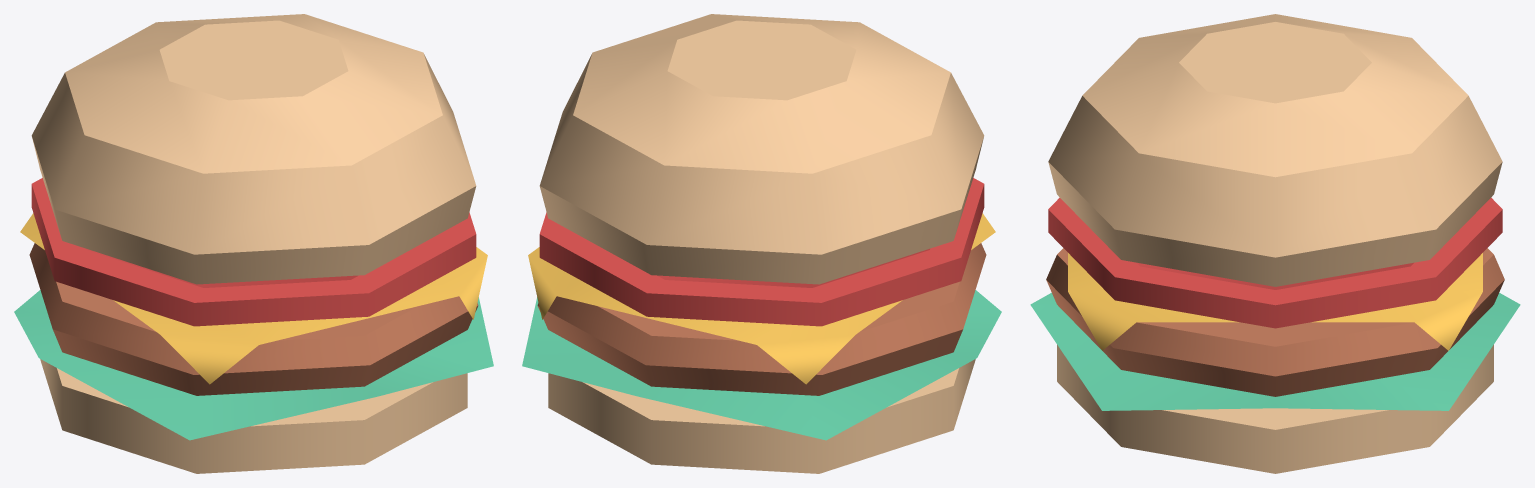
File: burger.gltf
3 renders of one model, left to right at view 1: azimuth 30°, elevation 25°; view 2: azimuth 150°, elevation 25°; view 3: azimuth 270°, elevation 25°, orthographic.
Parts seen in each view (by area): view 1: bunTop, patty, bunBottom, tomato, salad, cheese; view 2: bunTop, patty, bunBottom, tomato, salad, cheese; view 3: bunTop, patty, tomato, bunBottom, salad, cheese.
Part boxes in pixels (box(x1,y1,x2,y2)): bunTop: box(31, 14, 476, 284); patty: box(29, 243, 478, 395); bunBottom: box(40, 359, 467, 473); tomato: box(31, 178, 476, 326); salad: box(14, 290, 493, 440); cheese: box(20, 213, 487, 384); bunTop: box(539, 14, 984, 284); patty: box(537, 243, 986, 395); bunBottom: box(548, 359, 975, 473); tomato: box(539, 178, 984, 326); salad: box(522, 290, 1001, 440); cheese: box(528, 213, 995, 384); bunTop: box(1048, 14, 1502, 286); patty: box(1046, 248, 1504, 396); tomato: box(1048, 197, 1502, 328); bunBottom: box(1057, 344, 1493, 473); salad: box(1030, 292, 1520, 410); cheese: box(1068, 253, 1482, 350).
Bounding box in the file's own units: 0.4041 × 0.29 × 0.4041.
